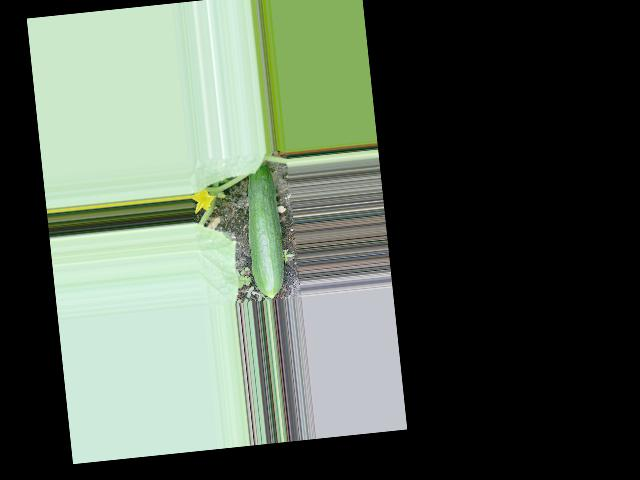cucumber: (241, 163, 288, 300)
